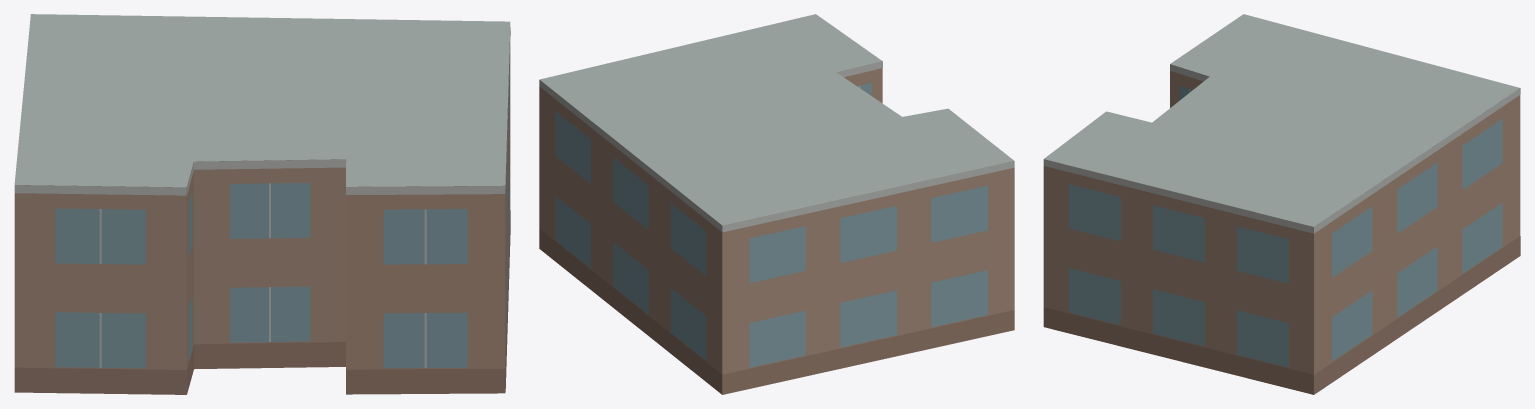
File: survey-upis-32780880.glb
3 renders of one model, left to right at view 1: azimuth 30°, elevation 25°; view 2: azimuth 150°, elevation 25°; view 3: azimuth 270°, elevation 25°, orthographic. The views are drawn at different scales.
Parts seen in each view (by area): view 1: survey-upis-32780880.tmp; view 2: survey-upis-32780880.tmp; view 3: survey-upis-32780880.tmp.
Boxes of the visible parts, x1=… form: survey-upis-32780880.tmp: x1=14, y1=14, x2=510, y2=394; survey-upis-32780880.tmp: x1=539, y1=14, x2=1014, y2=394; survey-upis-32780880.tmp: x1=1043, y1=14, x2=1520, y2=394.
Size of the model in its own units: 16.6 by 6.1 by 15.71.
